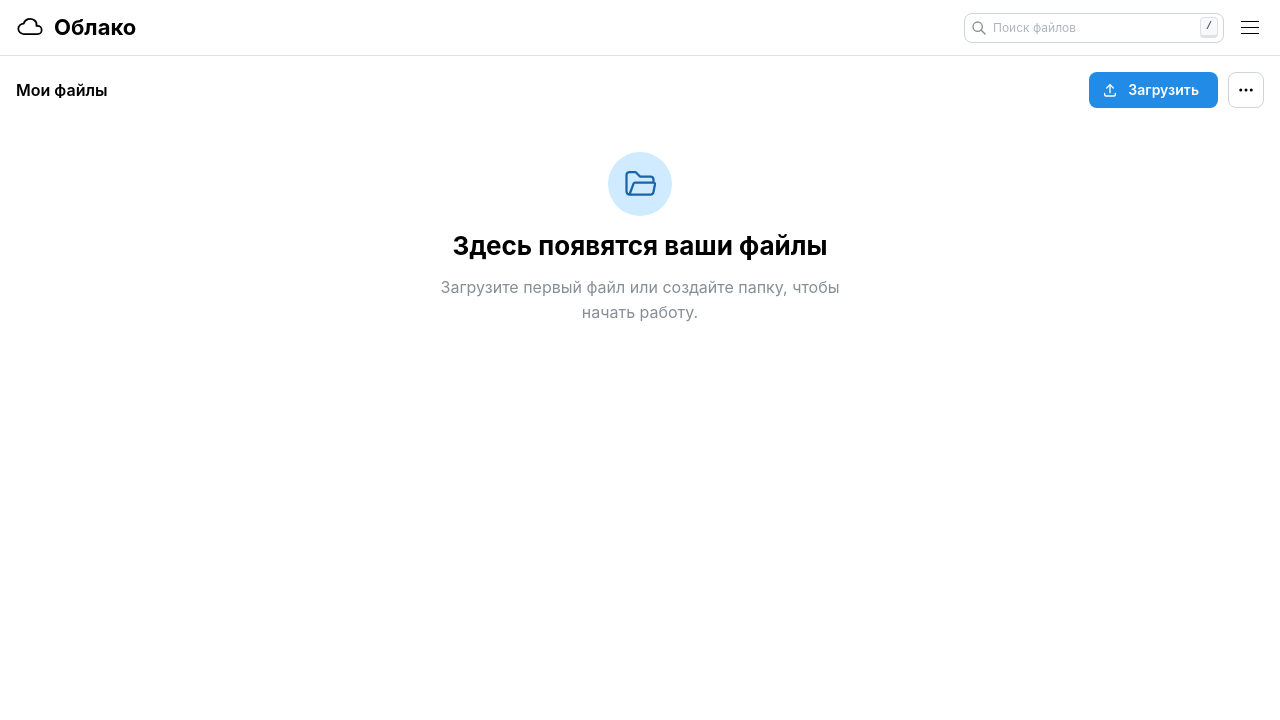
Test: App on a phone › puts the sections behind a burger, and closes the drawer on navigation
Click the button named "Меню". click: x=1250, y=28
box: [1236, 14, 1264, 42]
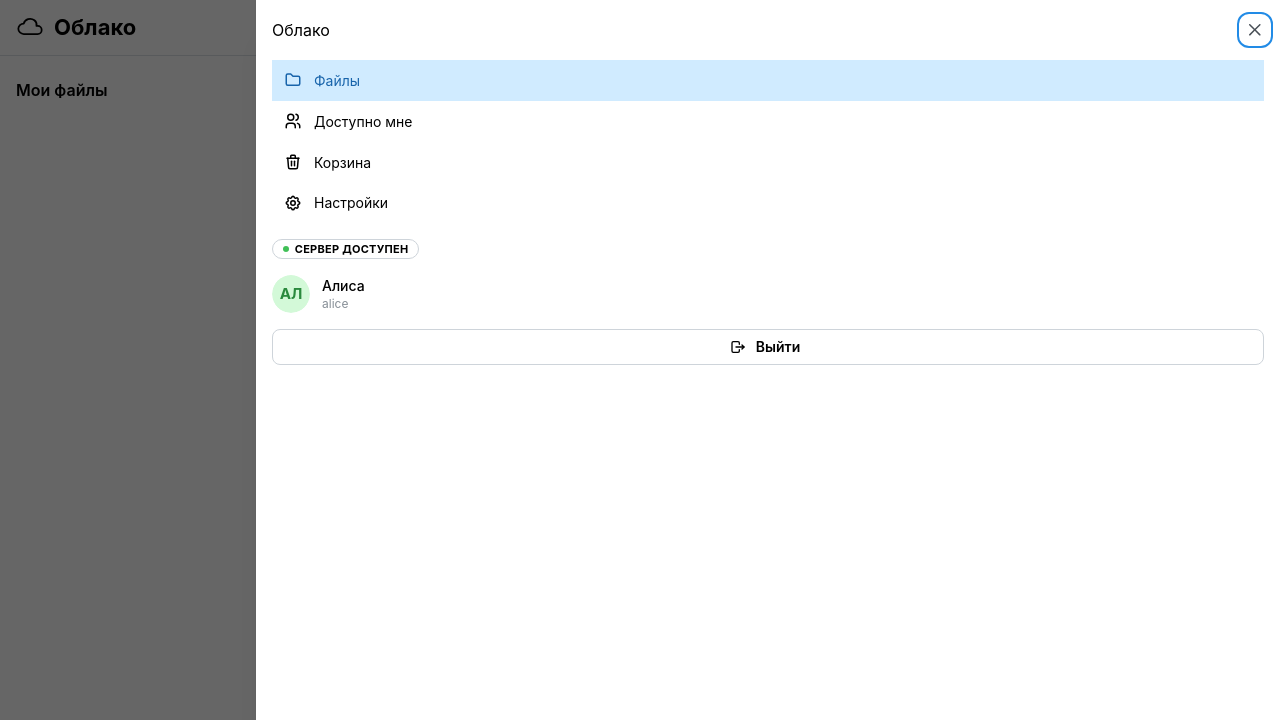
expect the links read "Файлы", "Доступно мне", "Корзина", "Настройки", in this order: met
expect the text "Алиса" is shown: met, box [322, 276, 365, 296]
expect the button "Выйти" is shown: met, box [272, 329, 1264, 365]
Click the link "Корзина". click: x=328, y=162
box: [284, 153, 371, 171]
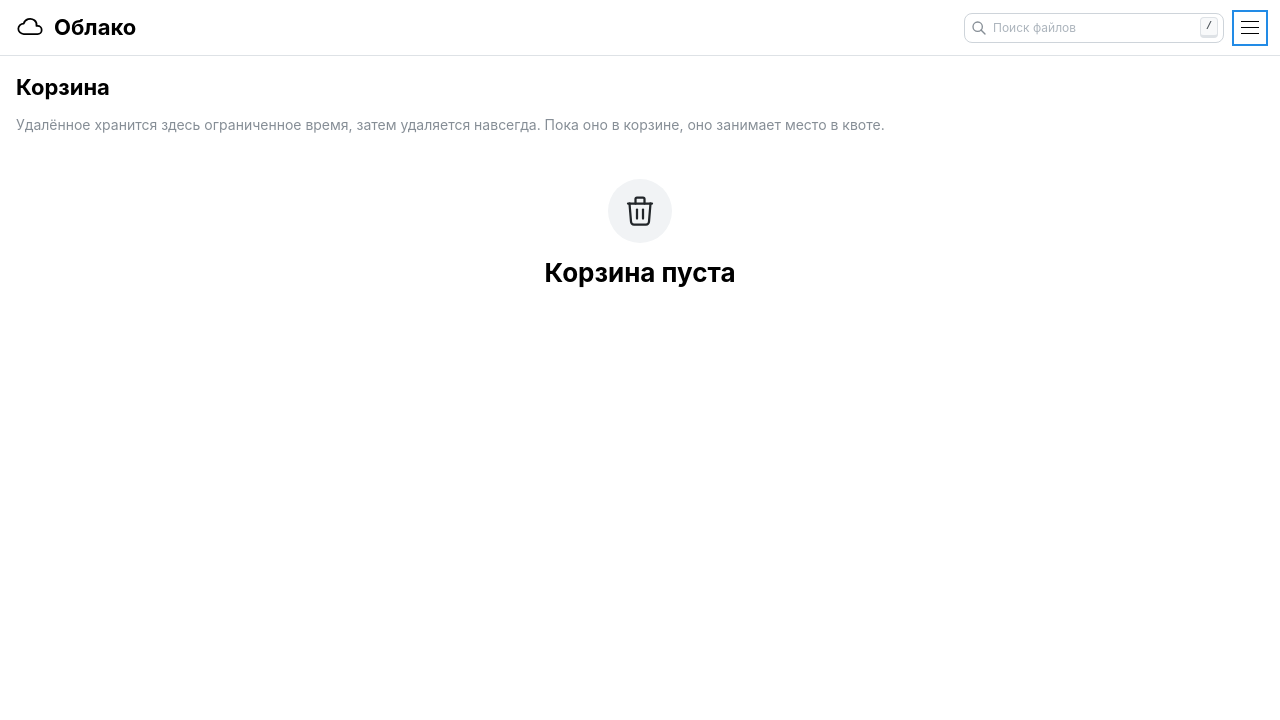
expect the navigation bar "Разделы" is gone: met
